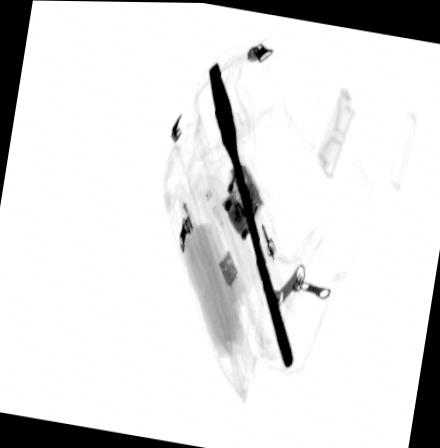Wrench: (208, 56, 296, 369)
